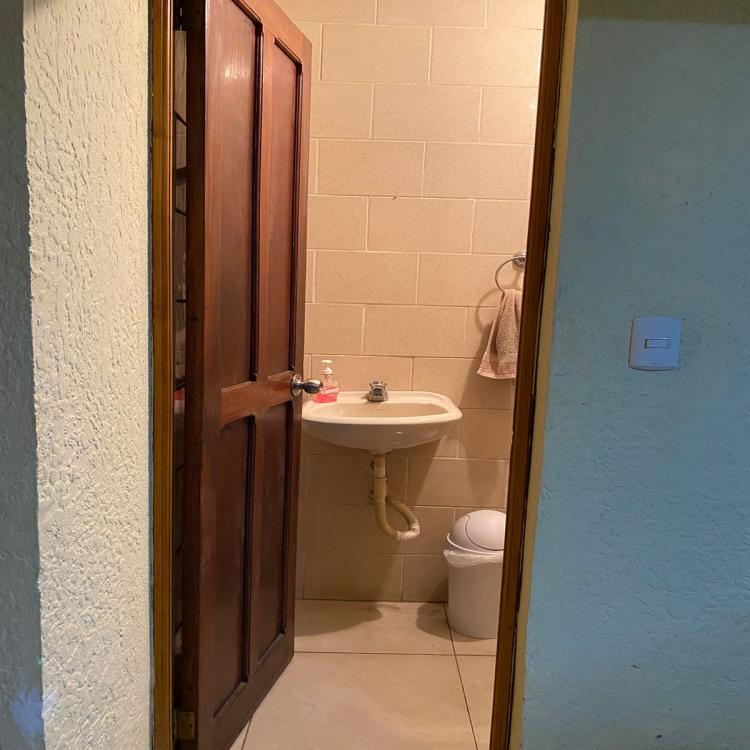OpenDoor: (175, 0, 555, 750)
